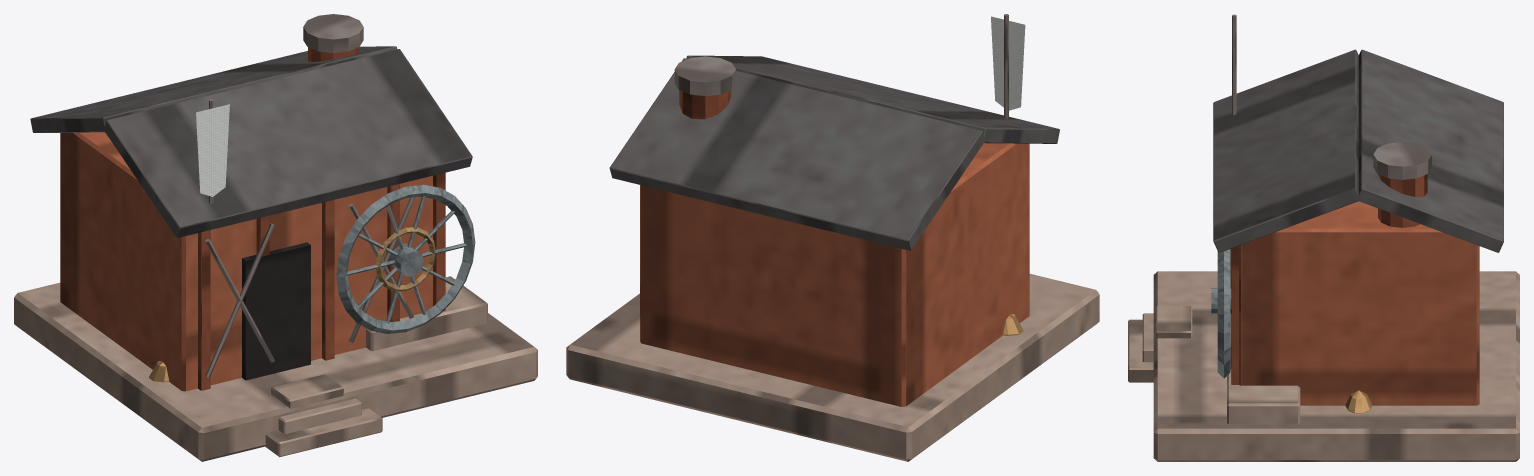
File: edificio-farm-e4-Bakra-CU.glb
The picture shows the model from 3 angles, left to right: view 1: azimuth 30°, elevation 25°; view 2: azimuth 150°, elevation 25°; view 3: azimuth 270°, elevation 25°; orthographic projection. The views are drawn at different scales.
Visible parts, largest first — view 1: molino_e4_envolvente, rotor_molino, molino_e4_team_color; view 2: molino_e4_envolvente, molino_e4_team_color; view 3: molino_e4_envolvente, rotor_molino.
Boxes of the visible parts, x1=… form: molino_e4_envolvente: x1=14, y1=14, x2=537, y2=461; rotor_molino: x1=336, y1=184, x2=475, y2=333; molino_e4_team_color: x1=196, y1=104, x2=229, y2=196; molino_e4_envolvente: x1=566, y1=14, x2=1099, y2=461; molino_e4_team_color: x1=991, y1=16, x2=1025, y2=110; molino_e4_envolvente: x1=1128, y1=14, x2=1519, y2=461; rotor_molino: x1=1211, y1=249, x2=1231, y2=378.
Size of the model in its own units: 52 by 47 by 53.5.
Materials: 3 (3 with a texture image).
